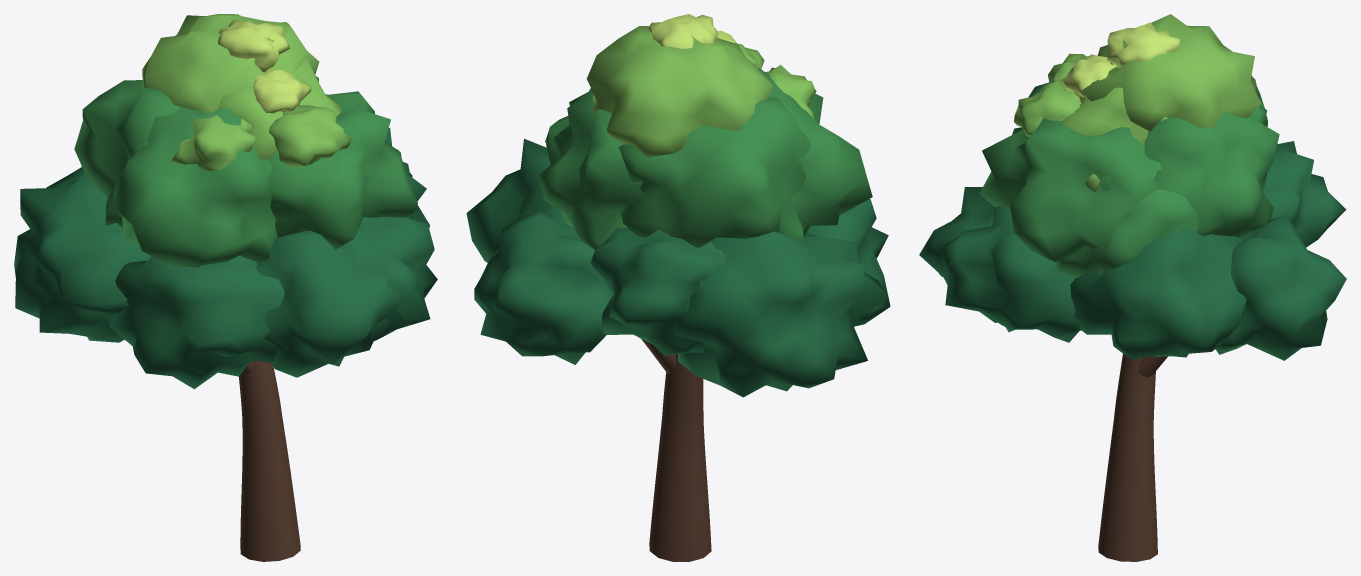
File: tree_b.glb
3 renders of one model, left to right at view 1: azimuth 30°, elevation 25°; view 2: azimuth 150°, elevation 25°; view 3: azimuth 270°, elevation 25°, orthographic. The views are drawn at different scales.
Parts seen in each view (by area): view 1: leaves.025, leaves.019, leaves.018, leaves.020, leaves.026, trunk.001, leaves.027, leaves.024, leaves.021, highlight.011, highlight.010, leaves.029 (+3 smaller); view 2: leaves.018, leaves.024, leaves.027, leaves.016, leaves.017, trunk.001, leaves.023, leaves.025, leaves.015, leaves.019, highlight.012, highlight.010 (+1 smaller); view 3: leaves.026, leaves.015, leaves.023, leaves.016, leaves.027, leaves.021, trunk.001, leaves.022, leaves.017, leaves.020, leaves.029, highlight.012 (+2 smaller).
Part boxes in pixels (x1,y1,x2,y2): leaves.025: (113, 107, 277, 267); leaves.019: (109, 255, 284, 389); leaves.018: (14, 167, 151, 342); leaves.020: (256, 230, 414, 377); leaves.026: (267, 91, 417, 249); trunk.001: (239, 360, 300, 561); leaves.027: (142, 14, 319, 112); leaves.024: (74, 80, 180, 226); leaves.021: (340, 217, 437, 341); highlight.011: (269, 105, 352, 166); highlight.010: (170, 115, 255, 171); leaves.029: (218, 58, 341, 159); leaves.018: (673, 231, 888, 397); leaves.024: (619, 96, 810, 247); leaves.027: (586, 26, 773, 157); leaves.016: (474, 211, 613, 364); leaves.017: (590, 227, 725, 355); trunk.001: (649, 354, 711, 561); leaves.023: (539, 89, 645, 249); leaves.025: (758, 68, 872, 237); leaves.015: (466, 138, 575, 262); leaves.019: (807, 199, 890, 326); highlight.012: (648, 14, 717, 48); highlight.010: (765, 65, 816, 119); leaves.026: (979, 117, 1161, 261); leaves.015: (1070, 227, 1246, 359); leaves.023: (1144, 111, 1279, 237); leaves.016: (1215, 215, 1346, 360); leaves.027: (1081, 14, 1261, 131); leaves.021: (940, 206, 1082, 342); trunk.001: (1098, 354, 1157, 561); leaves.022: (1056, 154, 1201, 278); leaves.017: (1263, 141, 1346, 247); leaves.020: (919, 187, 1014, 332); leaves.029: (1061, 65, 1167, 145); highlight.012: (1107, 22, 1180, 66).
Size of the model in its own units: 10.62 by 13.92 by 10.45.
